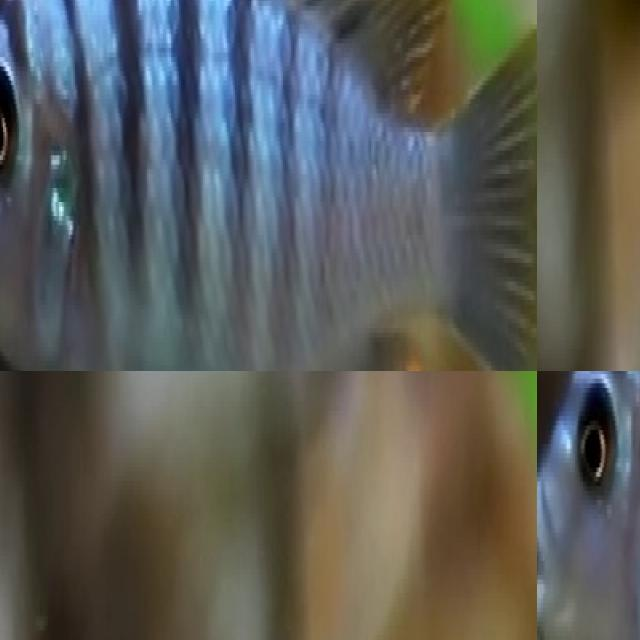fish: (0, 0, 537, 371), (581, 0, 640, 134)
